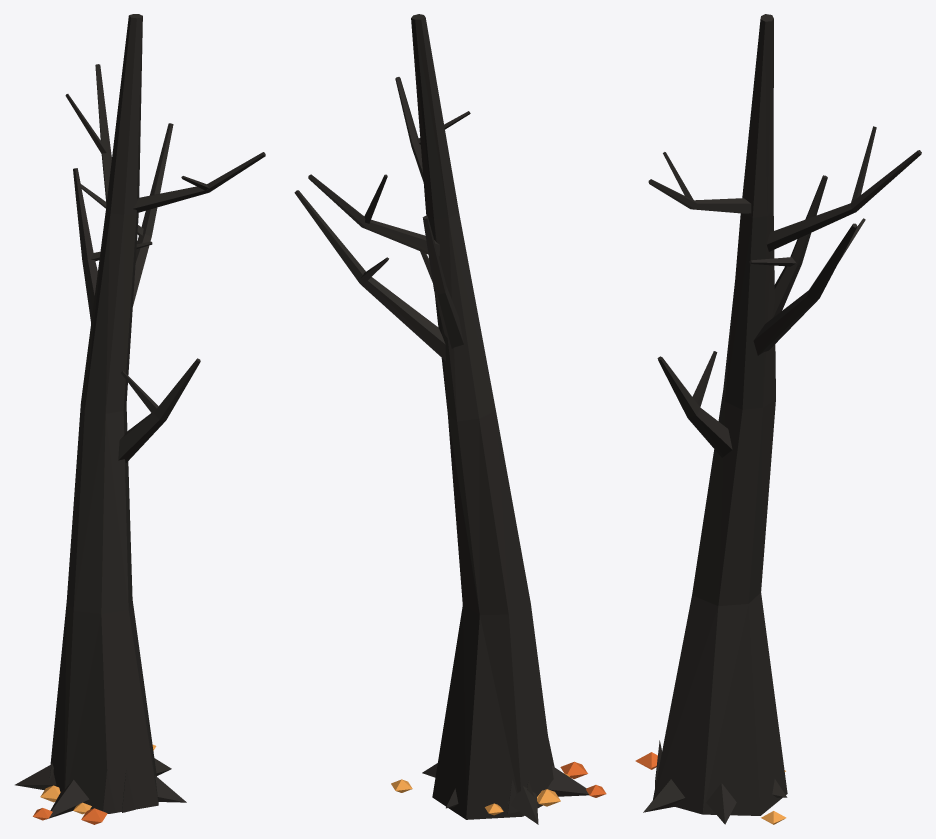
The model's file is HS_LP_Tree_Burnt_01.fbx.
3 renders of one model, left to right at view 1: azimuth 30°, elevation 25°; view 2: azimuth 150°, elevation 25°; view 3: azimuth 270°, elevation 25°, orthographic. The views are drawn at different scales.
Parts seen in each view (by area): view 1: HS_LP_Tree_Burnt_01; view 2: HS_LP_Tree_Burnt_01; view 3: HS_LP_Tree_Burnt_01.
Part boxes in pixels (bbox=[...]): HS_LP_Tree_Burnt_01: bbox=[15, 14, 265, 824]; HS_LP_Tree_Burnt_01: bbox=[294, 14, 606, 824]; HS_LP_Tree_Burnt_01: bbox=[635, 14, 921, 824].
Size of the model in its own units: 145 by 471 by 152.
